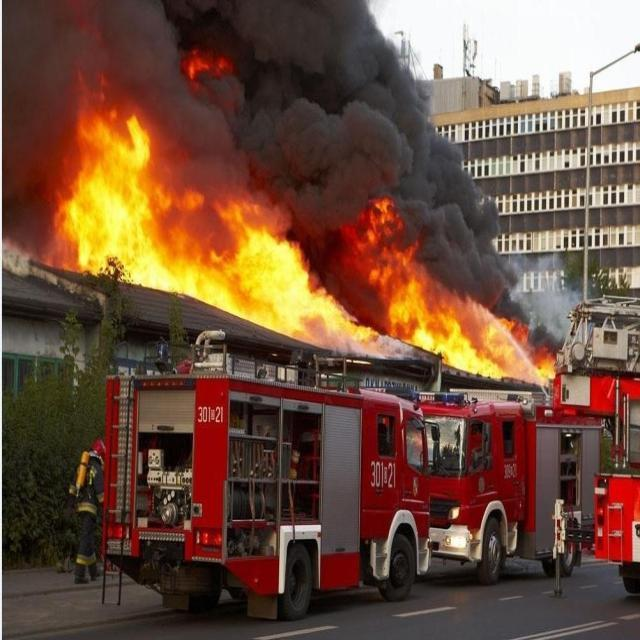Fire: (46, 102, 557, 386), (186, 50, 232, 82)
Smoke: (2, 2, 596, 358)
